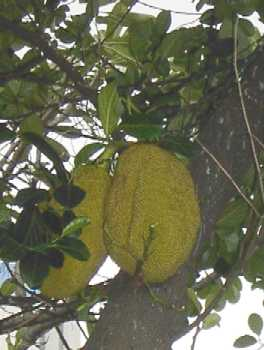jackfruit: (103, 144, 203, 284), (29, 160, 112, 302)
